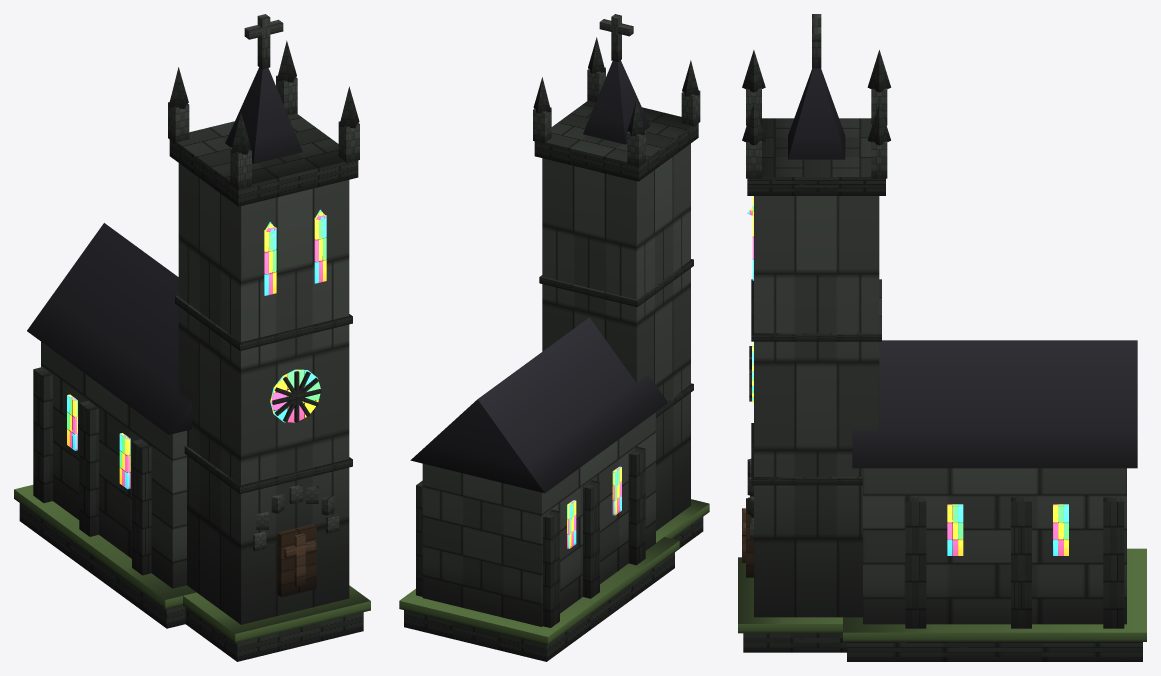
Rendered from chapel.fbx.
3 renders of one model, left to right at view 1: azimuth 30°, elevation 25°; view 2: azimuth 150°, elevation 25°; view 3: azimuth 270°, elevation 25°, orthographic. The views are drawn at different scales.
Visible parts, largest first — view 1: chapel; view 2: chapel; view 3: chapel.
Boxes of the visible parts, box(x1,y1,x2,y2) form: chapel: box(14, 14, 370, 661); chapel: box(399, 14, 709, 661); chapel: box(738, 14, 1146, 661).
Bounding box in the file's own units: 150 × 506 × 309.
1 material, 1 textured.
